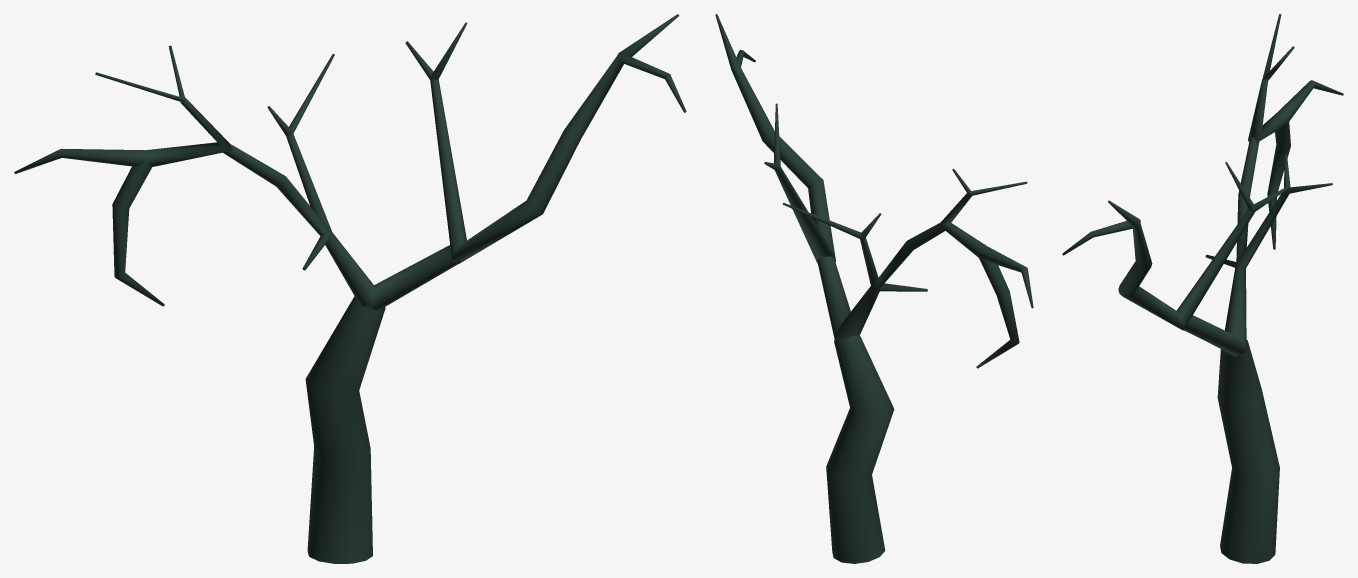
Rendered from arbre2_bleu.fbx.
The picture shows the model from 3 angles, left to right: view 1: azimuth 30°, elevation 25°; view 2: azimuth 150°, elevation 25°; view 3: azimuth 270°, elevation 25°; orthographic projection. The views are drawn at different scales.
Visible parts, largest first — view 1: Vert; view 2: Vert; view 3: Vert.
Boxes of the visible parts, x1,y1,x2,y2 form: Vert: [14, 14, 686, 563]; Vert: [715, 14, 1033, 563]; Vert: [1062, 14, 1343, 563].
Size of the model in its own units: 128 by 125 by 69.68.
